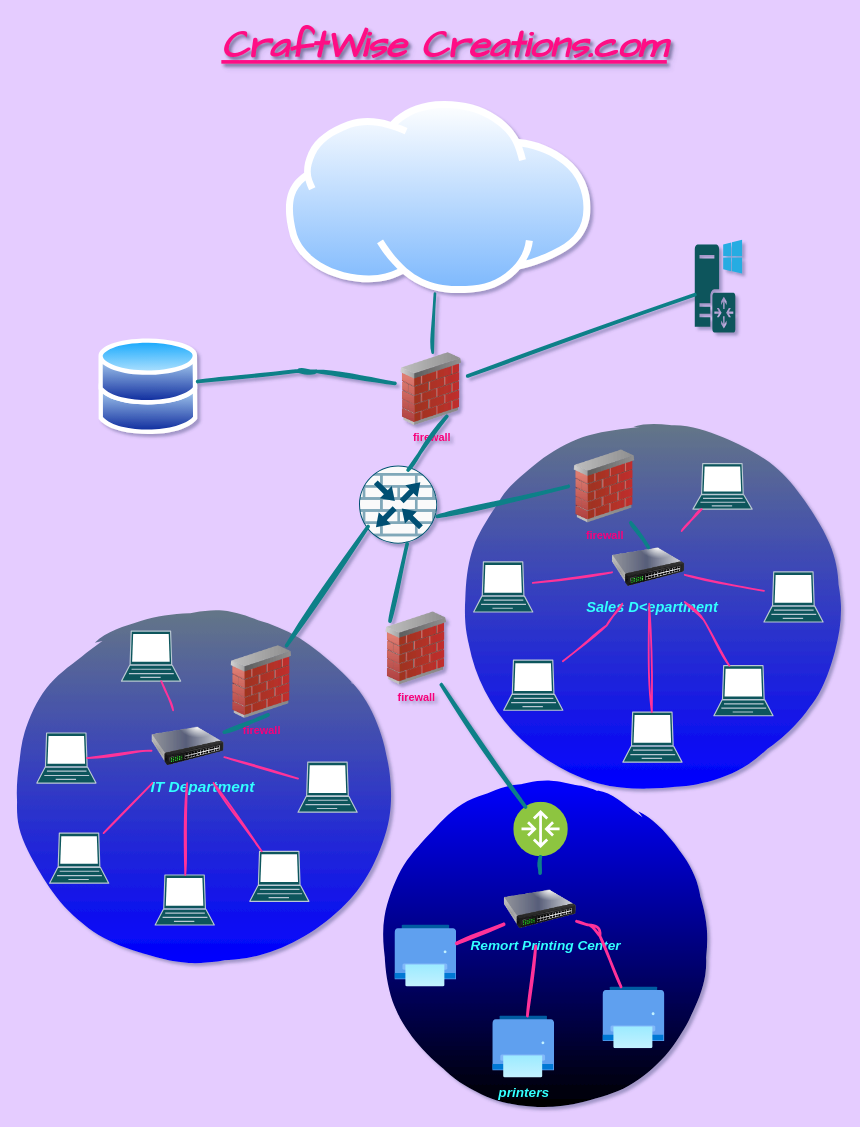
This 860x1127 diagram has some shape labels left out. The shapes that lost their labels are listed below. From the top down, each one's centre as x and y in pixels, then its label:
At point (718, 285): "windows server".
At point (147, 386): "Database".
At point (397, 504): "Rauter with firewall".
At point (540, 829): "Rauter".
